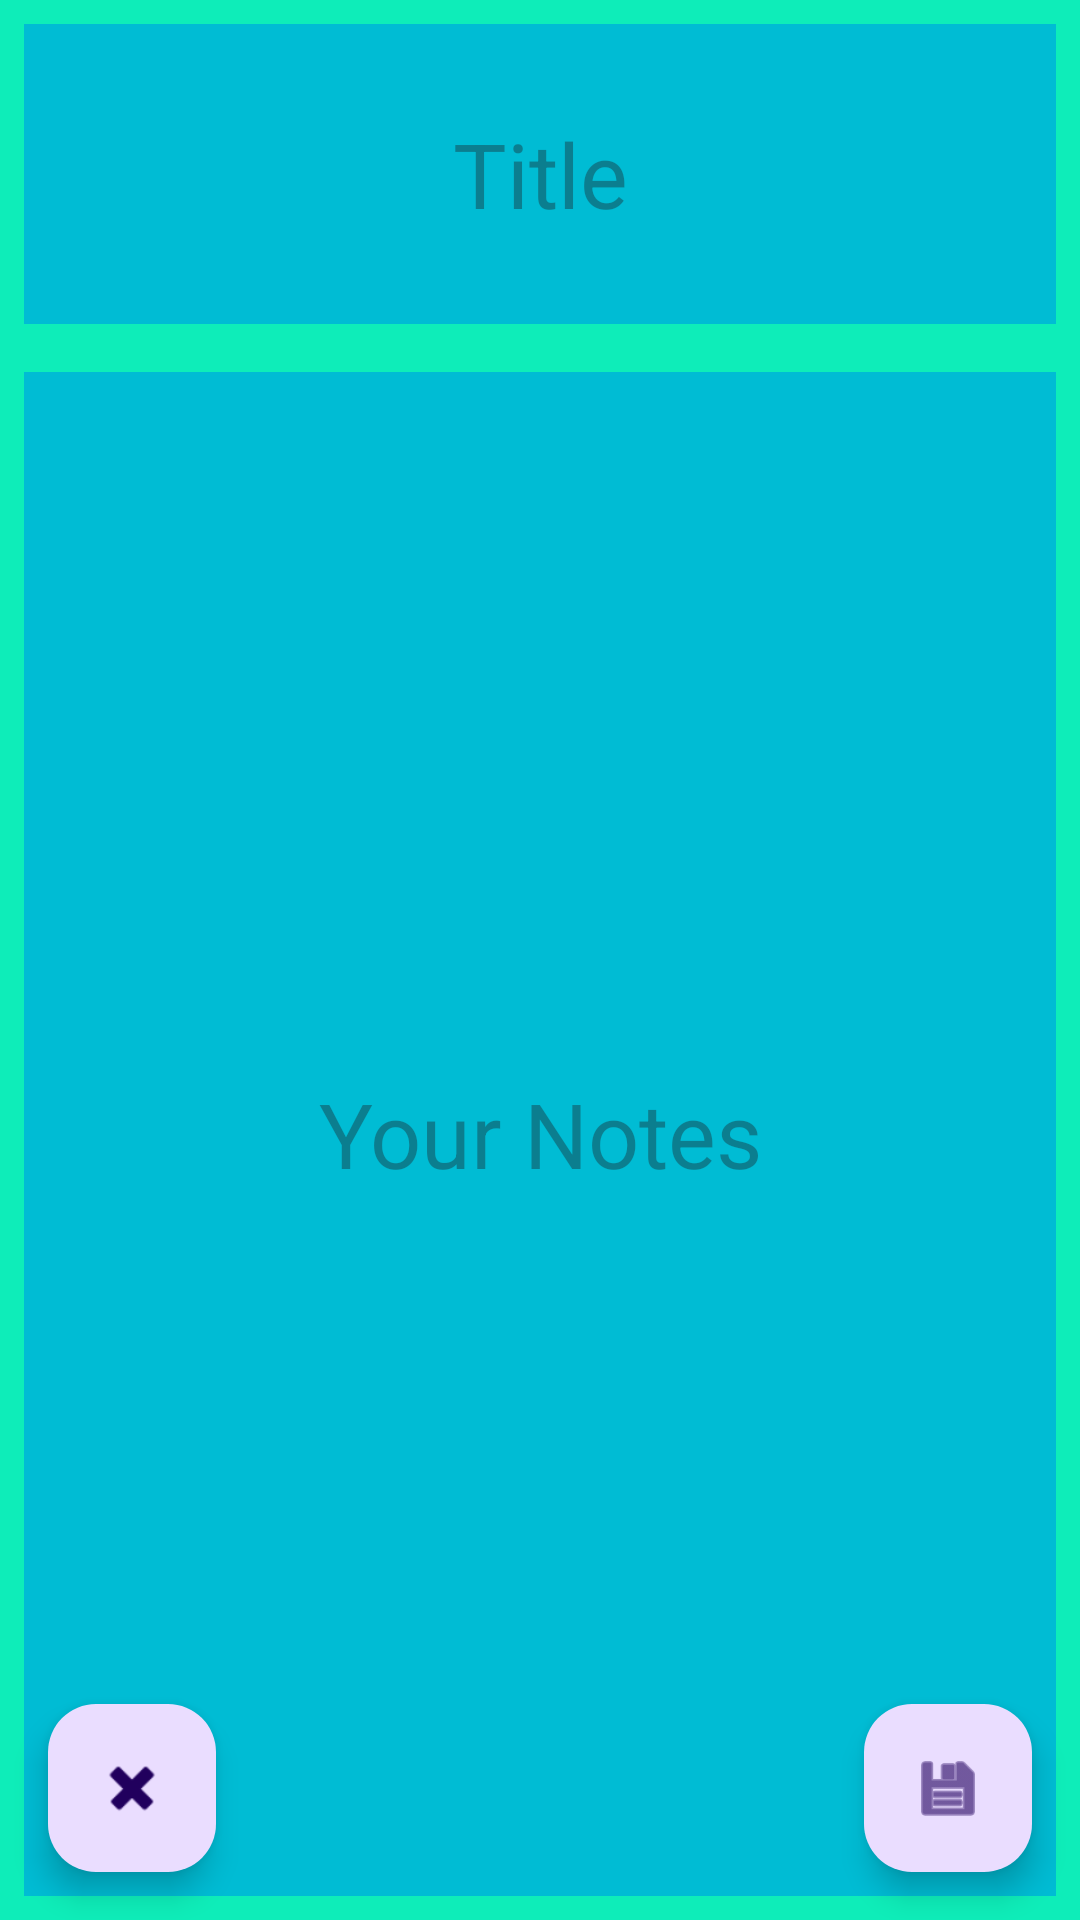

Named icons in this screenshot (1080 x 1920) and their centers, point (x, y):
delete: point (132, 1788)
save: point (948, 1788)
